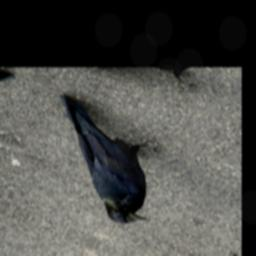Crow: (12, 91, 193, 233)
